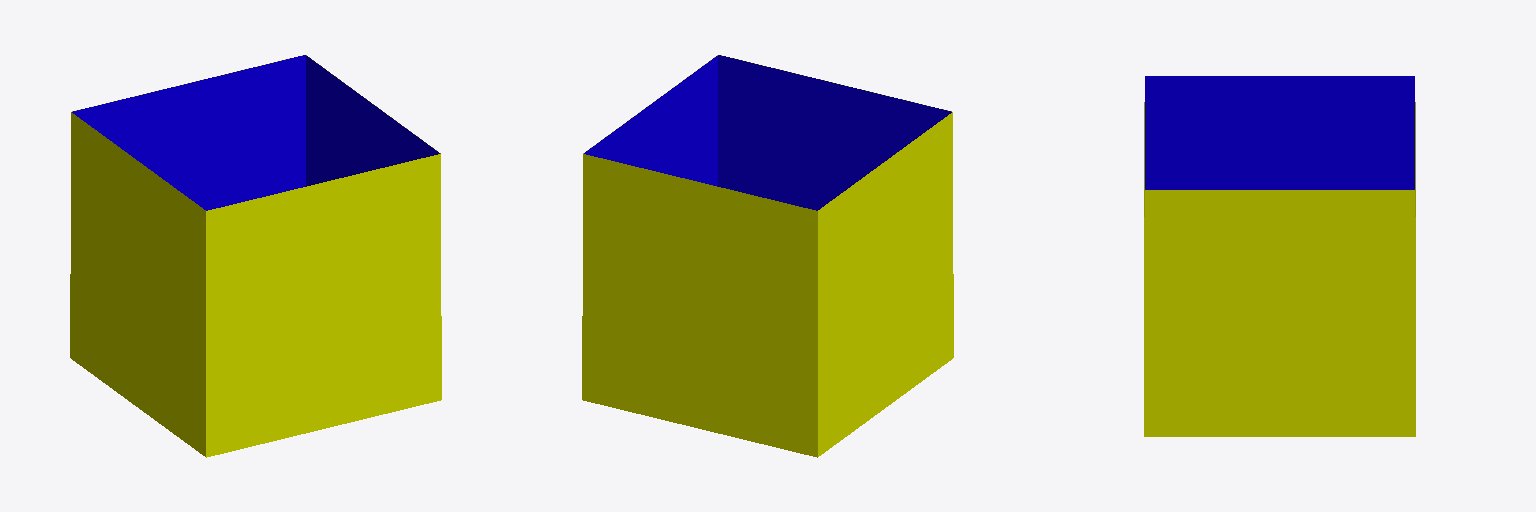
3 renders of one model, left to right at view 1: azimuth 30°, elevation 25°; view 2: azimuth 150°, elevation 25°; view 3: azimuth 270°, elevation 25°, orthographic.
Visible parts, largest first — view 1: outside, inside; view 2: outside, inside; view 3: outside, inside.
Part boxes in pixels (x1,y1,x2,y2): outside: (70,55,441,457); inside: (72,55,439,210); outside: (582,55,953,457); inside: (584,55,951,210); outside: (1144,102,1415,436); inside: (1145,76,1414,189).
Bounding box in the file's own units: 5.08 × 5.08 × 5.08.